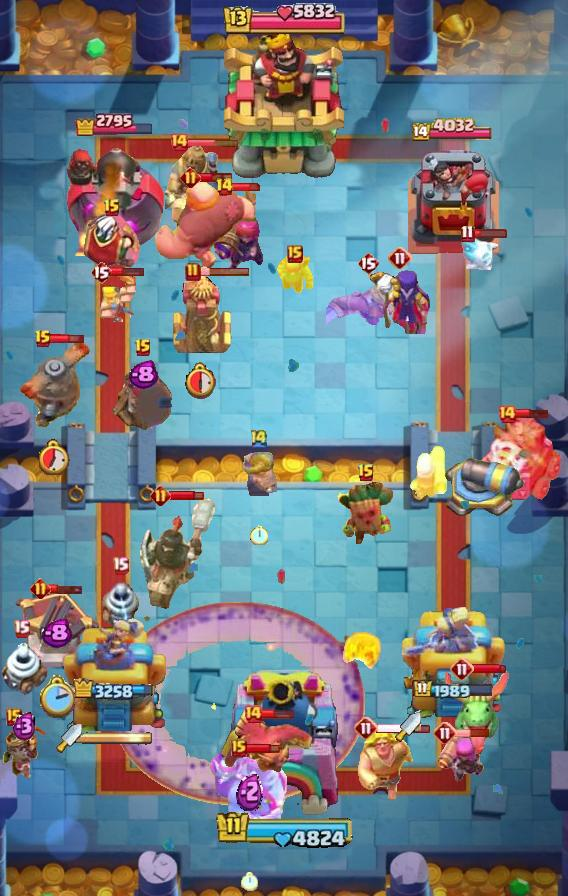archer: (98, 275, 136, 324)
axe: (368, 268, 432, 334)
balloon: (152, 179, 256, 279)
bar: (399, 607, 507, 731), (61, 615, 166, 731)
bat: (459, 236, 501, 272)
bomber-evolution: (2, 721, 47, 779)
clock: (212, 809, 356, 850), (221, 0, 347, 40)
dark-prince: (7, 341, 101, 427)
electro-spirit: (237, 773, 264, 812), (41, 618, 72, 649), (128, 360, 158, 390), (12, 711, 37, 741)
electro-wizard: (442, 668, 512, 754)
elixir: (38, 675, 75, 718), (185, 361, 219, 399), (38, 439, 69, 475), (250, 525, 268, 545), (241, 873, 259, 891)
emote: (377, 721, 432, 735), (199, 266, 251, 277), (186, 137, 240, 147), (50, 331, 85, 344), (198, 171, 234, 183), (48, 583, 84, 595), (471, 663, 507, 675), (169, 489, 204, 501), (245, 742, 280, 754), (472, 229, 508, 240), (110, 266, 146, 277), (514, 409, 550, 420), (262, 708, 295, 720), (454, 728, 490, 738), (231, 182, 263, 192)
giant-snowball: (275, 251, 315, 295)
goblin-barrel: (337, 481, 395, 545)
goblin-brawler: (171, 274, 233, 358)
goblin-drill: (0, 640, 50, 696), (97, 575, 143, 629)
goblin-giant: (241, 451, 277, 497)
goblin-hut: (326, 272, 410, 327), (355, 728, 412, 801)
golem: (473, 411, 563, 503)
inferno-dragon: (135, 495, 219, 611)
king-tower: (219, 670, 349, 826), (224, 29, 344, 181)
king-tower-bar: (82, 731, 154, 745)
lava-hound: (208, 750, 290, 846)
lava-pup: (12, 592, 100, 674)
mega-minion: (212, 190, 266, 278)
mother-witch: (221, 710, 317, 778)
queen-tower: (403, 146, 503, 256)
ram-rider: (165, 143, 225, 227)
rocket: (109, 601, 365, 805)
royal-giant-evolution: (109, 363, 177, 433)
royal-recruit: (444, 456, 526, 526)
selected: (413, 116, 496, 143), (72, 677, 155, 702), (73, 112, 154, 137), (412, 679, 494, 701)
skeleton-king: (82, 206, 142, 272)
text: (388, 246, 412, 270), (450, 657, 474, 681), (354, 716, 378, 740), (433, 721, 457, 745), (357, 251, 379, 275), (90, 260, 112, 284), (179, 168, 201, 189), (30, 577, 51, 599), (149, 485, 170, 506), (249, 427, 269, 448), (169, 132, 189, 152), (497, 404, 517, 424), (243, 704, 263, 724), (214, 177, 233, 197), (103, 198, 121, 218), (34, 329, 52, 349), (134, 338, 152, 358), (357, 463, 375, 483), (112, 556, 129, 575), (185, 262, 201, 282), (13, 619, 30, 637), (287, 245, 303, 263), (6, 708, 22, 726), (231, 739, 247, 757), (461, 225, 476, 244)
tombstone: (435, 731, 485, 783), (407, 443, 449, 501)
tower-bar: (63, 138, 164, 256)
valkyrie: (338, 630, 384, 678)
